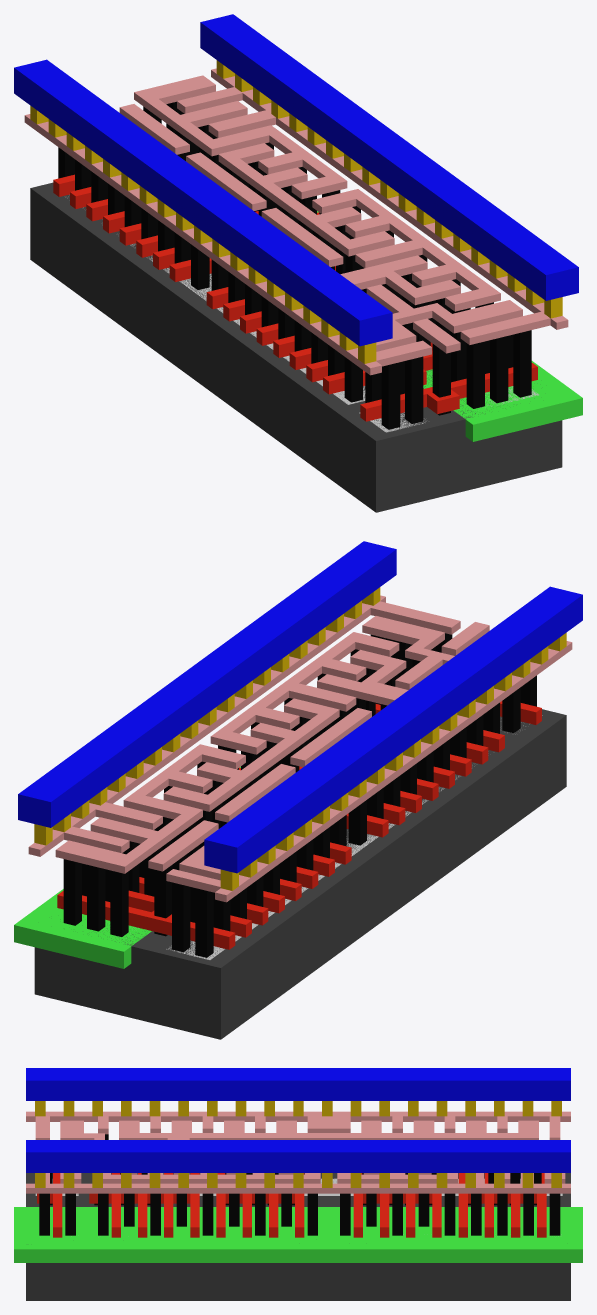
The model's file is sky130_fd_sc_hd__nor4b_4.obj.
3 renders of one model, top to bottom at view 1: azimuth 30°, elevation 25°; view 2: azimuth 150°, elevation 25°; view 3: azimuth 270°, elevation 25°, orthographic. The views are drawn at different scales.
Visible parts, largest first — view 1: subs, metal1, li, licon, poly, mcon, nwell, diff; view 2: subs, metal1, li, licon, poly, mcon, nwell, diff; view 3: metal1, subs, nwell, li, licon, poly, mcon.
Boxes of the visible parts, left/top/right/bottom form: subs: left=30, top=182, right=562, bottom=512; metal1: left=14, top=14, right=578, bottom=346; li: left=24, top=68, right=568, bottom=375; licon: left=58, top=101, right=531, bottom=429; poly: left=53, top=174, right=537, bottom=421; mcon: left=30, top=60, right=562, bottom=363; nwell: left=317, top=211, right=582, bottom=441; diff: left=65, top=196, right=426, bottom=432; subs: left=34, top=709, right=566, bottom=1039; metal1: left=18, top=541, right=582, bottom=873; li: left=28, top=595, right=572, bottom=902; licon: left=63, top=633, right=536, bottom=957; poly: left=57, top=701, right=541, bottom=949; mcon: left=34, top=587, right=566, bottom=890; nwell: left=14, top=766, right=240, bottom=968; diff: left=166, top=715, right=542, bottom=959; metal1: left=26, top=1068, right=570, bottom=1172; subs: left=26, top=1173, right=570, bottom=1300; nwell: left=14, top=1207, right=582, bottom=1262; li: left=26, top=1111, right=570, bottom=1193; licon: left=39, top=1134, right=560, bottom=1235; poly: left=37, top=1173, right=546, bottom=1237; mcon: left=35, top=1101, right=561, bottom=1187.
Bounding box in the file's own units: 3.2 × 2.74 × 9.12.
